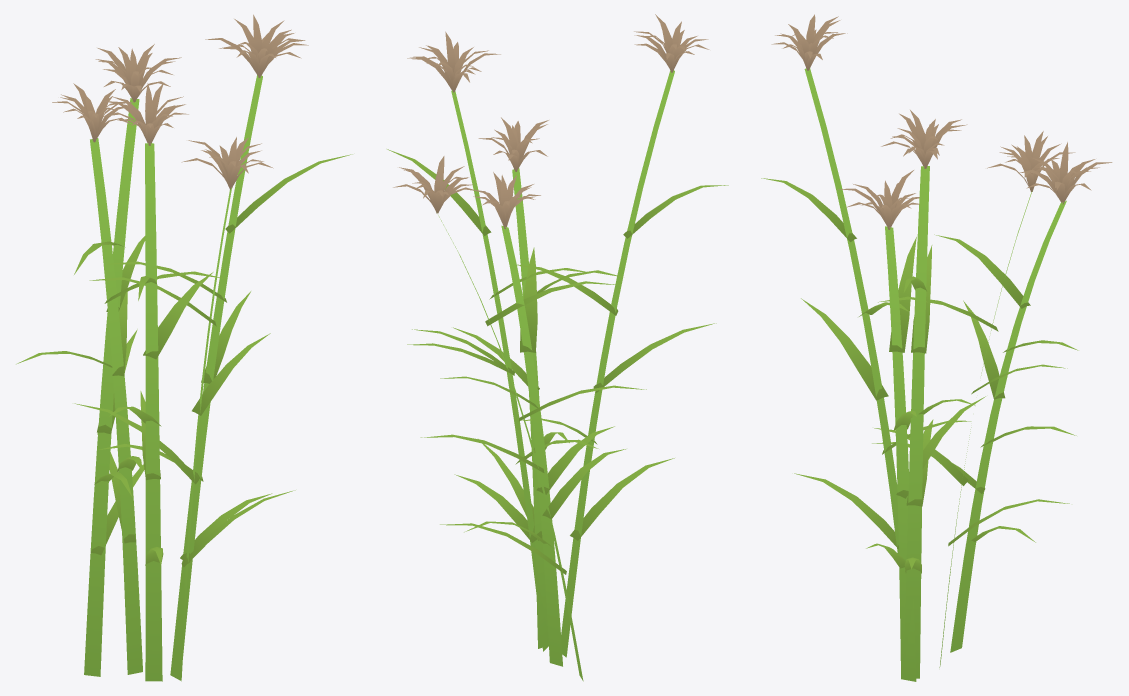
Rendered from reed1.gltf.
3 renders of one model, left to right at view 1: azimuth 30°, elevation 25°; view 2: azimuth 150°, elevation 25°; view 3: azimuth 270°, elevation 25°, orthographic. The views are drawn at different scales.
Visible parts, largest first — view 1: reed1_stalk_LOD0, reed1_leaf_LOD0, reed1_head_LOD0; view 2: reed1_stalk_LOD0, reed1_leaf_LOD0, reed1_head_LOD0; view 3: reed1_stalk_LOD0, reed1_leaf_LOD0, reed1_head_LOD0.
Part boxes in pixels (<box>): reed1_stalk_LOD0: <box>84,75,262,681</box>; reed1_leaf_LOD0: <box>16,154,352,567</box>; reed1_head_LOD0: <box>52,14,308,189</box>; reed1_stalk_LOD0: <box>438,70,674,681</box>; reed1_leaf_LOD0: <box>387,149,728,574</box>; reed1_head_LOD0: <box>393,14,709,229</box>; reed1_stalk_LOD0: <box>804,68,1066,681</box>; reed1_leaf_LOD0: <box>761,178,1078,573</box>; reed1_head_LOD0: <box>771,14,1112,229</box>.
Size of what is drawn, in the model's own units: 1.11 by 2.18 by 1.14.
